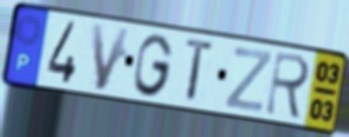4: (45, 19, 80, 85)
G: (132, 32, 176, 99)
R: (263, 49, 314, 122)
T: (184, 36, 217, 105)
V: (89, 21, 133, 93)
Z: (222, 45, 274, 115)
